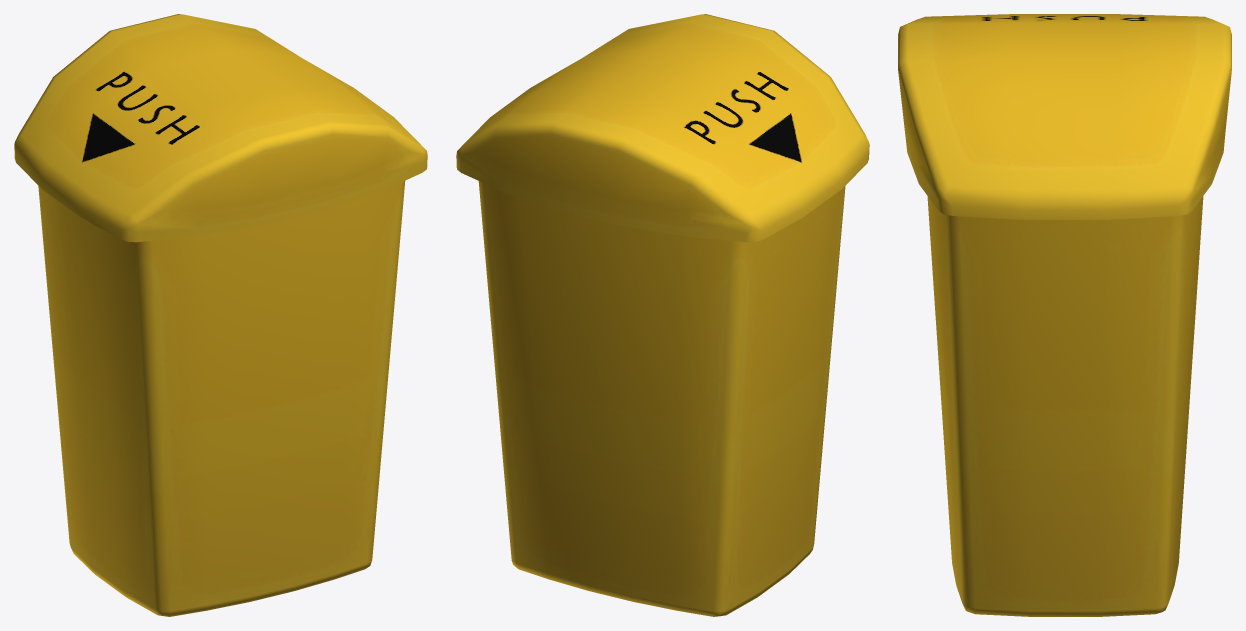
File: OfficeTrashCan01.fbx
3 renders of one model, left to right at view 1: azimuth 30°, elevation 25°; view 2: azimuth 150°, elevation 25°; view 3: azimuth 270°, elevation 25°, orthographic. The views are drawn at different scales.
Visible parts, largest first — view 1: OfficeTrashCan01 2; view 2: OfficeTrashCan01 2; view 3: OfficeTrashCan01 2.
Part boxes in pixels (x1,y1,x2,y2): OfficeTrashCan01 2: (14, 14, 427, 616); OfficeTrashCan01 2: (456, 14, 869, 616); OfficeTrashCan01 2: (898, 14, 1231, 616).
Bounding box in the file's own units: 0.4245 × 0.615 × 0.3583.
Materials: 1 (1 with a texture image).
